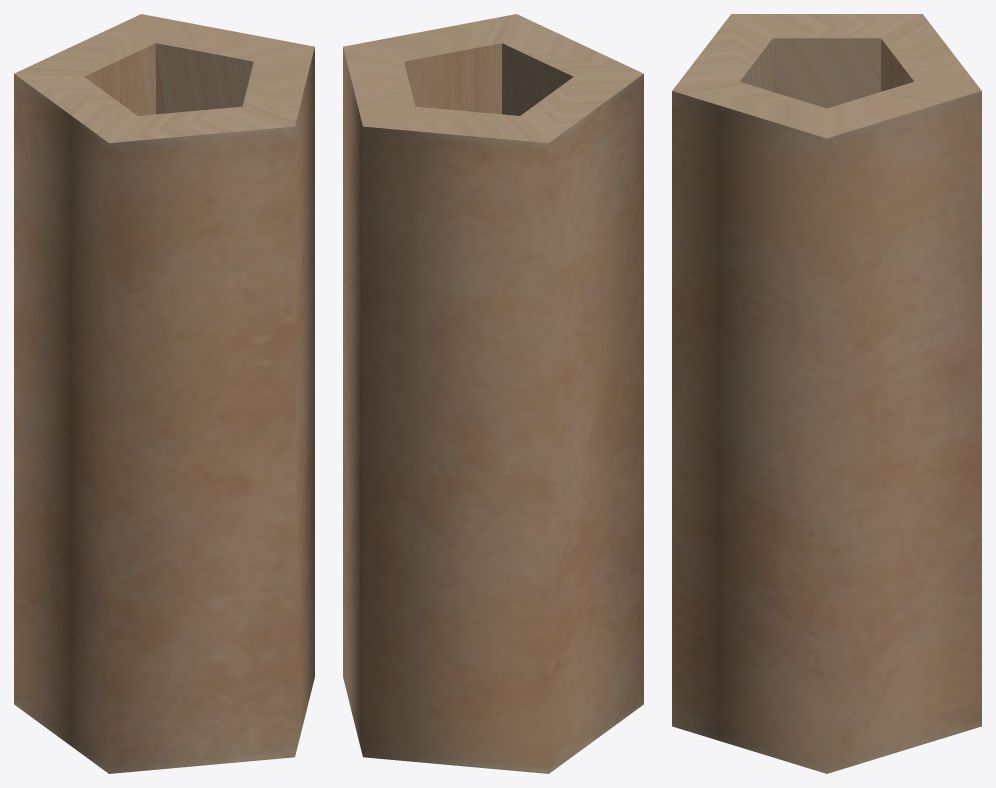
Rendered from paper roll.FBX.
3 views of the same model, side by side, from view 1: azimuth 30°, elevation 25°; view 2: azimuth 150°, elevation 25°; view 3: azimuth 270°, elevation 25° (orthographic).
Visible parts, largest first — view 1: Cylinder001; view 2: Cylinder001; view 3: Cylinder001.
Part boxes in pixels (x1=…): Cylinder001: x1=14, y1=14, x2=314, y2=773; Cylinder001: x1=343, y1=14, x2=643, y2=773; Cylinder001: x1=672, y1=14, x2=981, y2=773.
Bounding box in the file's own units: 5.55 × 13.22 × 5.84.
1 material, 1 textured.
